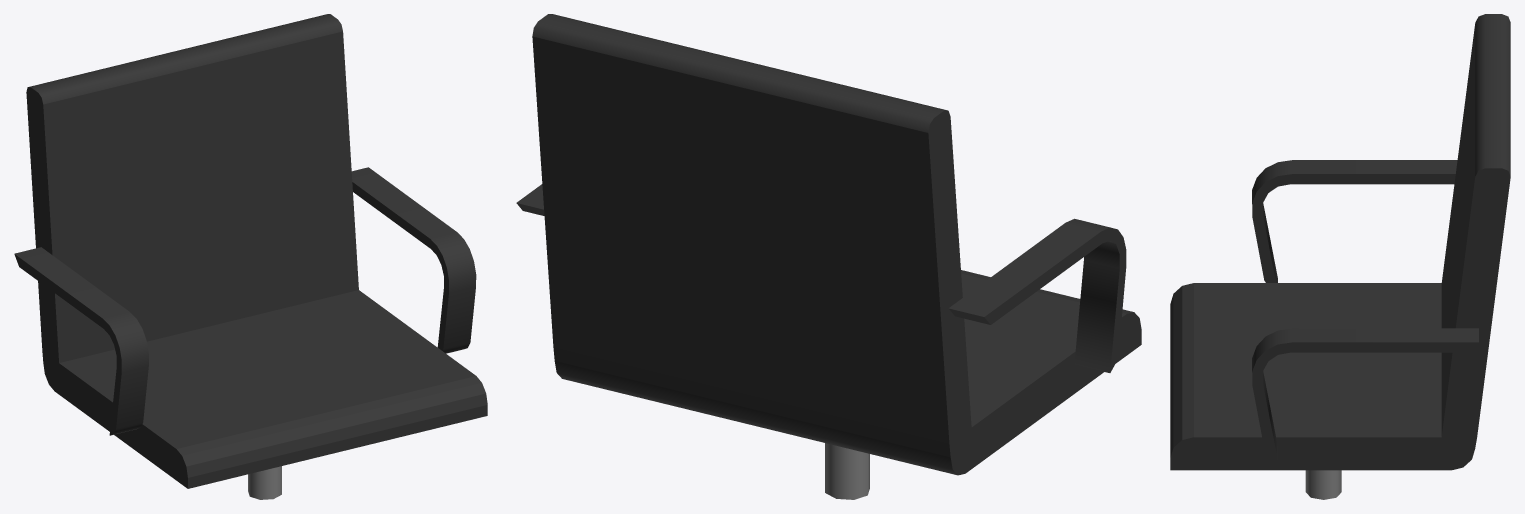
The model's file is Chair_Office_Base_B.obj.
3 views of the same model, side by side, from view 1: azimuth 30°, elevation 25°; view 2: azimuth 150°, elevation 25°; view 3: azimuth 270°, elevation 25° (orthographic). The views are drawn at different scales.
Parts seen in each view (by area): view 1: Chair_Office_Base_B; view 2: Chair_Office_Base_B; view 3: Chair_Office_Base_B.
Part boxes in pixels (x1,y1,x2,y2): Chair_Office_Base_B: [14, 14, 487, 499]; Chair_Office_Base_B: [516, 14, 1141, 499]; Chair_Office_Base_B: [1170, 14, 1510, 499].
Bounding box in the file's own units: 0.7164 × 0.7349 × 0.5655.
